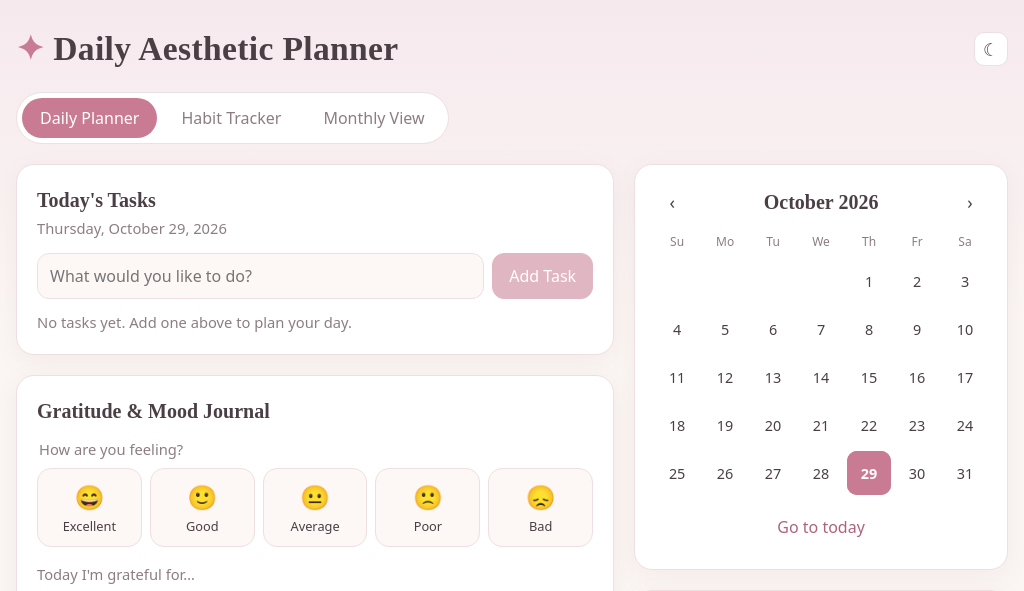
Scenario: Daily planner › marks saved dates on the calendar
Expected: the button named "Thursday, October 29, 2026" is shown, [847,451,891,495]
Type "Stretch" into the field named "New task" at (261, 276), box [37,254,484,300]
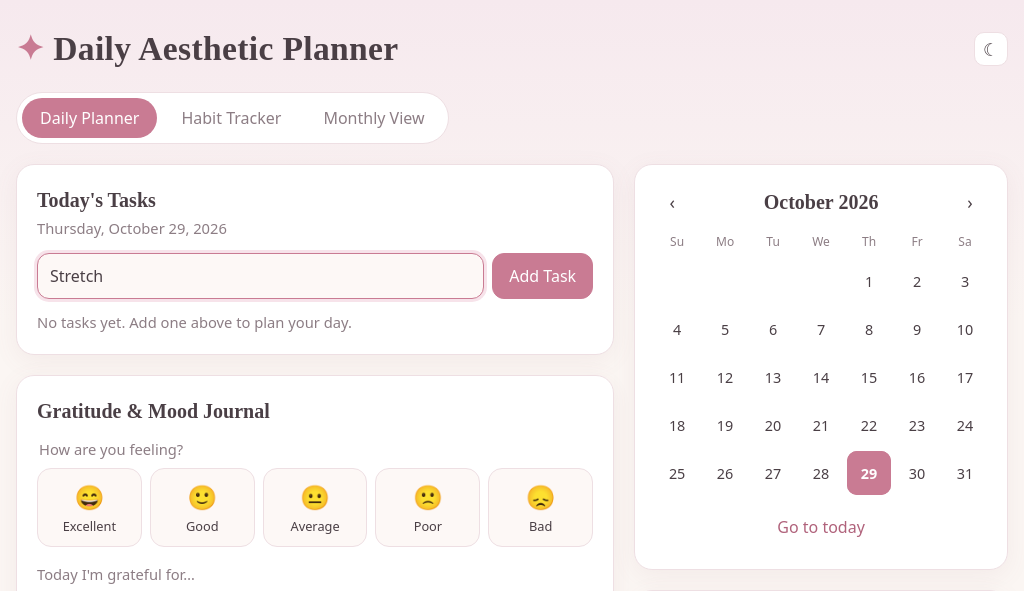
Click the button "Add Task" at (543, 276), box [492,254,593,300]
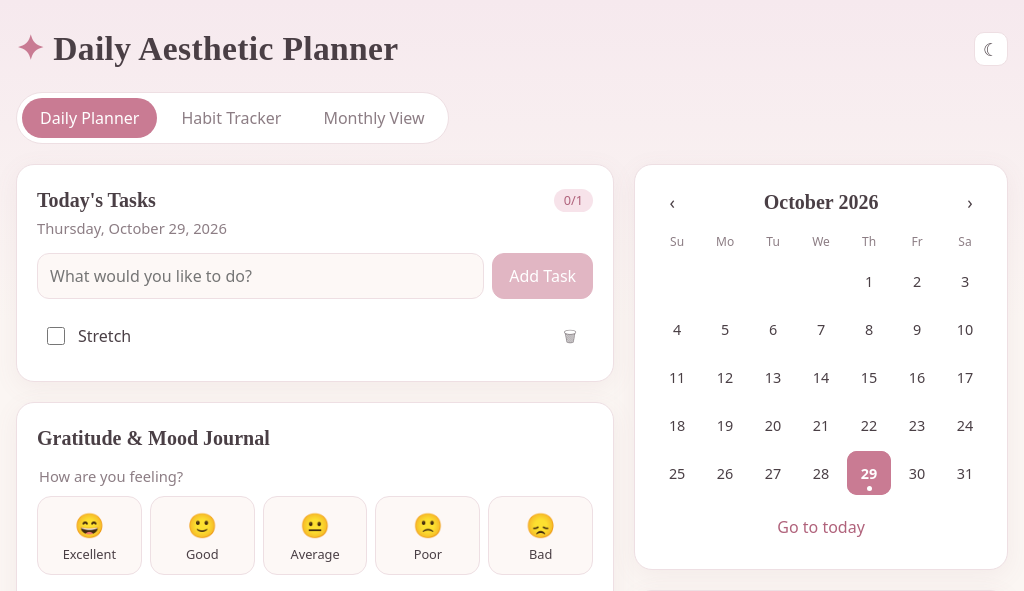
Expected: the checkbox labelled "Stretch" is shown, [47,328,65,346]
Expected: the button named "Thursday, October 29, 2026, has entries" is shown, [847,451,891,495]
